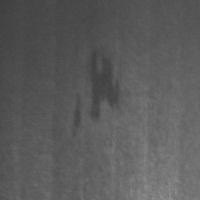inclusion: (85, 41, 124, 127), (63, 87, 90, 134)
